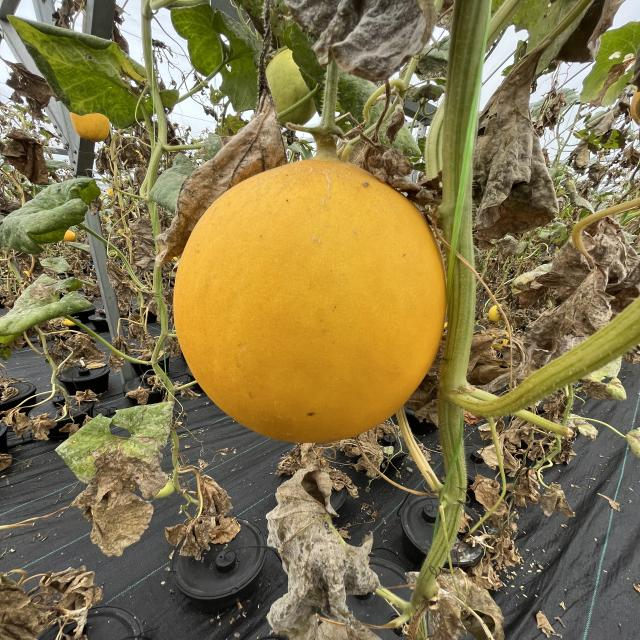alternaria leaf blight: (61, 403, 188, 551), (27, 16, 163, 128), (0, 264, 77, 329), (592, 34, 640, 109)
bacterial wilt: (160, 102, 286, 261), (277, 0, 439, 88), (486, 58, 558, 232), (282, 489, 350, 636), (0, 567, 110, 640), (528, 242, 604, 341), (420, 569, 502, 630), (0, 123, 61, 188), (187, 473, 240, 544), (0, 64, 50, 122), (462, 474, 528, 514), (37, 330, 93, 374), (484, 435, 538, 476), (114, 206, 146, 263), (284, 457, 340, 489), (519, 472, 556, 514)
